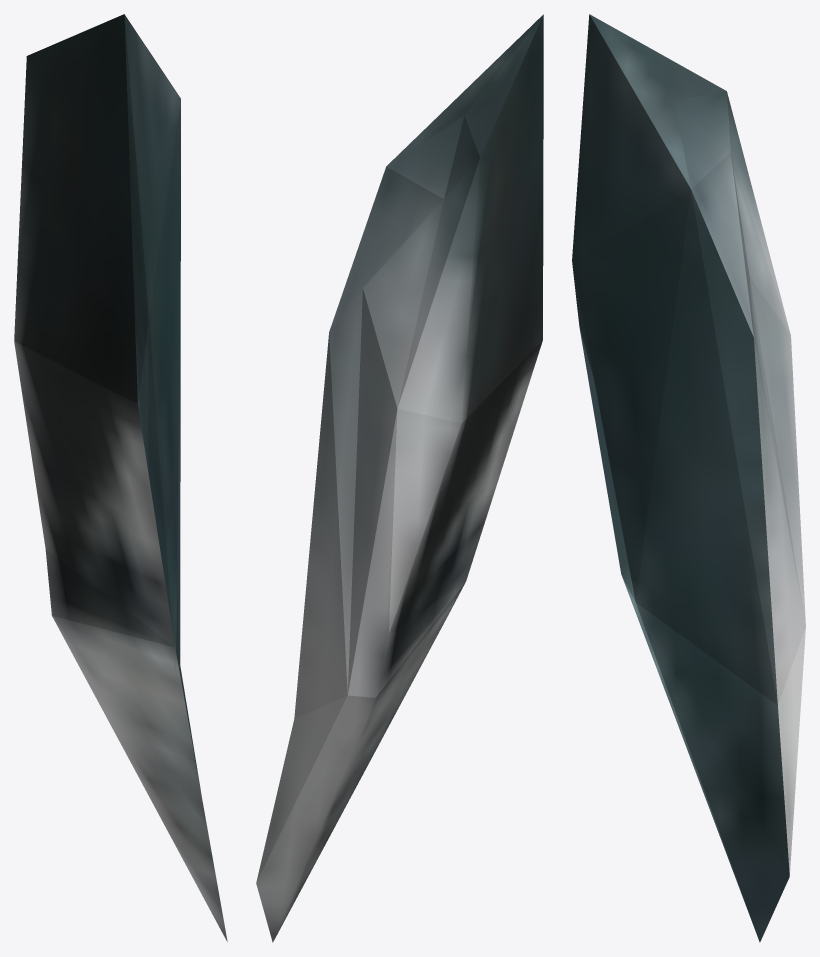
3 views of the same model, side by side, from view 1: azimuth 30°, elevation 25°; view 2: azimuth 150°, elevation 25°; view 3: azimuth 270°, elevation 25° (orthographic). The views are drawn at different scales.
Size of the model in its own units: 0.0714 by 0.3246 by 0.0813.
1 material, 1 textured.
